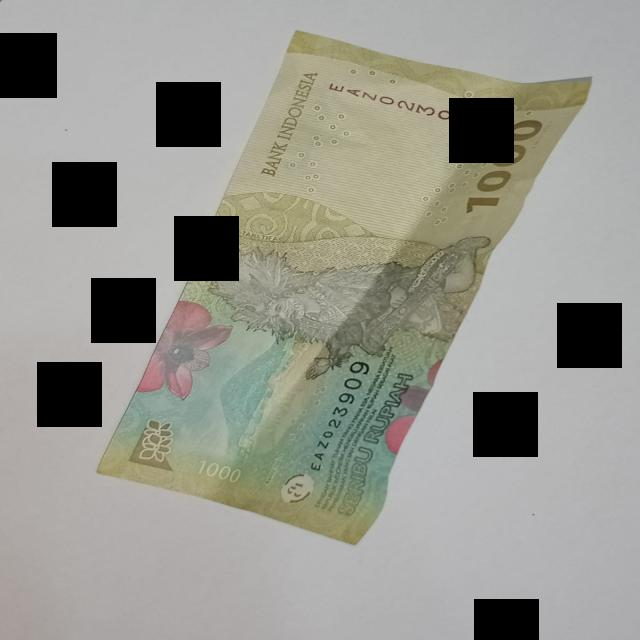seribu rupiah: (98, 32, 590, 543)
